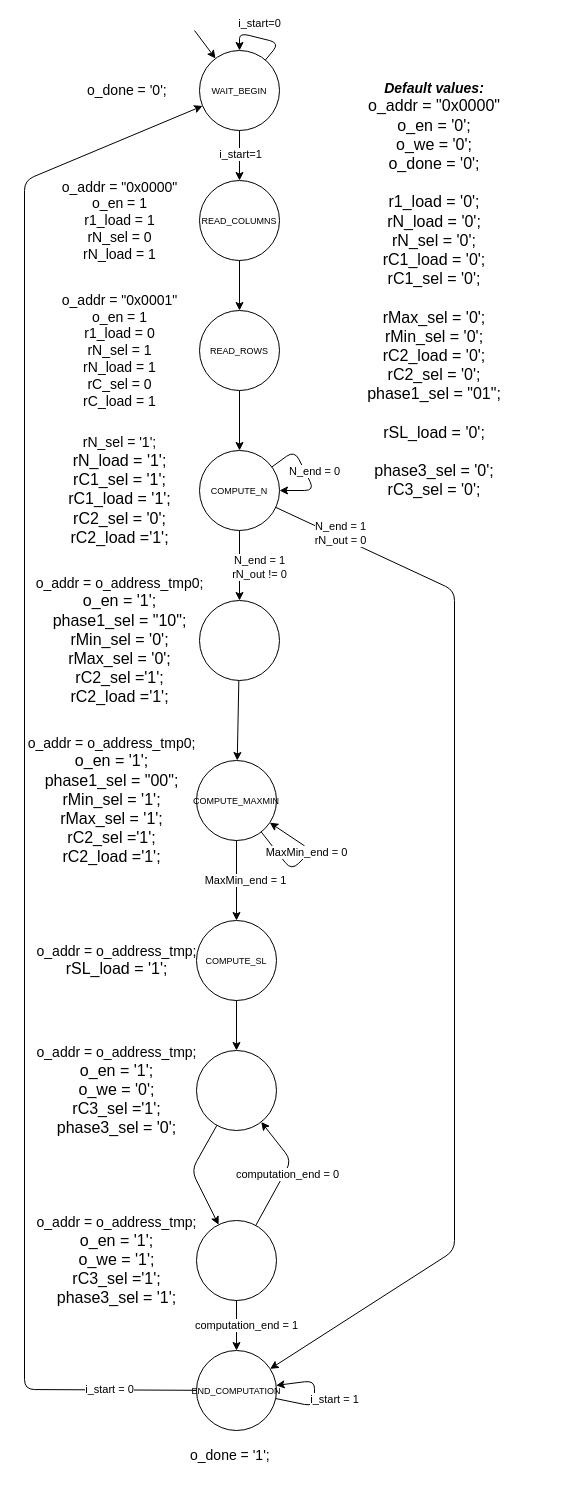
Image size: 582x1488. Some labels were removed from this diagram. The centre of each missing label's shape, as x and y in pixels:
PREPARE_ MAXMIN_PHASE: the point at 239,640
READ_PIXEL: the point at 236,1090
WRITE_PIXEL: the point at 236,1260
